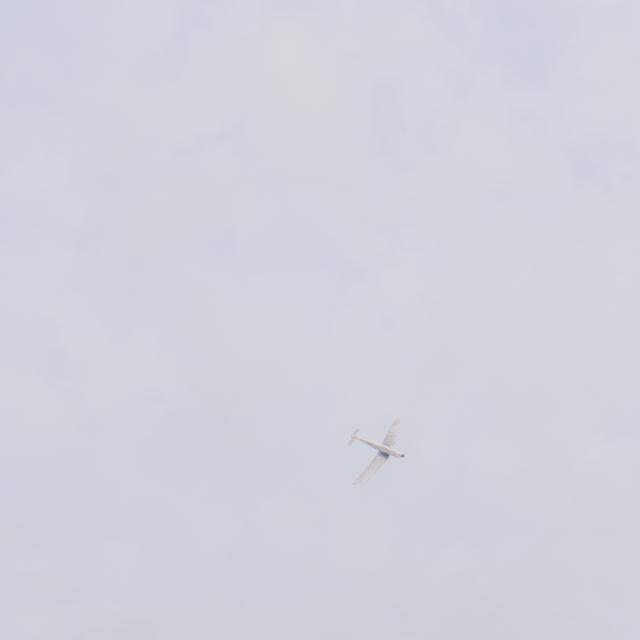Airaplan: (347, 417, 404, 486)
